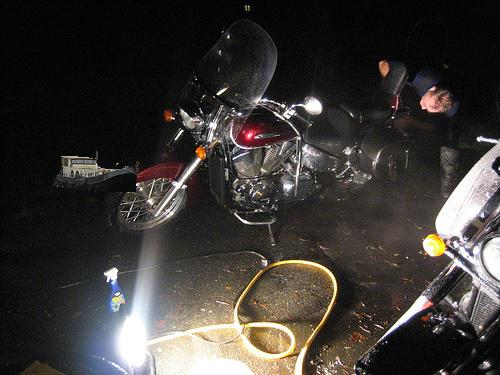tampered: (54, 152, 139, 192)
